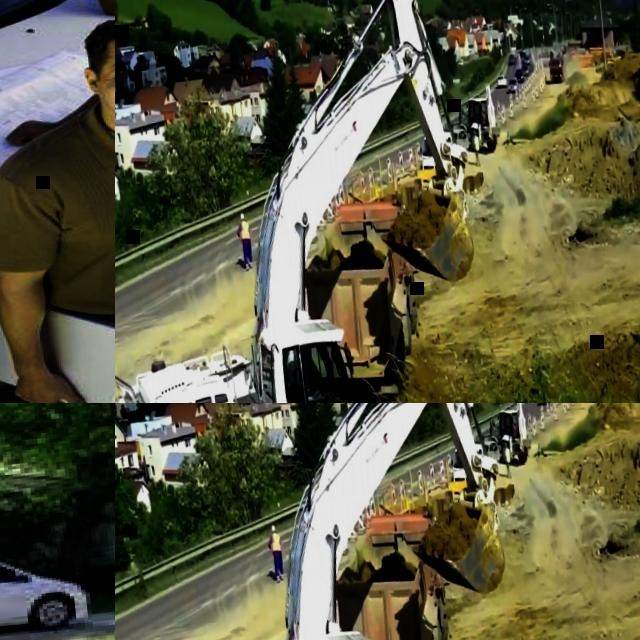Hardhat: (240, 213, 244, 219), (271, 525, 275, 531)
NO-Hardhat: (81, 9, 115, 54)
NO-Safety Vest: (19, 109, 115, 322)
Person: (0, 1, 115, 403), (291, 353, 325, 403), (235, 212, 254, 270), (266, 524, 285, 582), (503, 442, 513, 478), (473, 130, 482, 166), (480, 107, 486, 124), (511, 419, 517, 436)
Safety Vest: (239, 221, 250, 241), (270, 533, 281, 553), (473, 136, 479, 149), (504, 448, 510, 461)
machinery: (115, 0, 508, 403), (115, 403, 539, 640), (295, 194, 428, 403), (326, 506, 459, 640), (454, 82, 502, 154), (485, 403, 533, 465), (548, 56, 564, 84)
vehicle: (0, 0, 115, 354), (0, 536, 88, 636), (418, 129, 454, 180), (450, 441, 486, 492), (451, 125, 469, 151), (483, 437, 501, 463), (507, 77, 519, 93), (514, 68, 525, 84), (520, 64, 532, 77), (496, 74, 508, 87), (522, 54, 530, 65), (508, 54, 515, 65), (522, 48, 526, 54)
